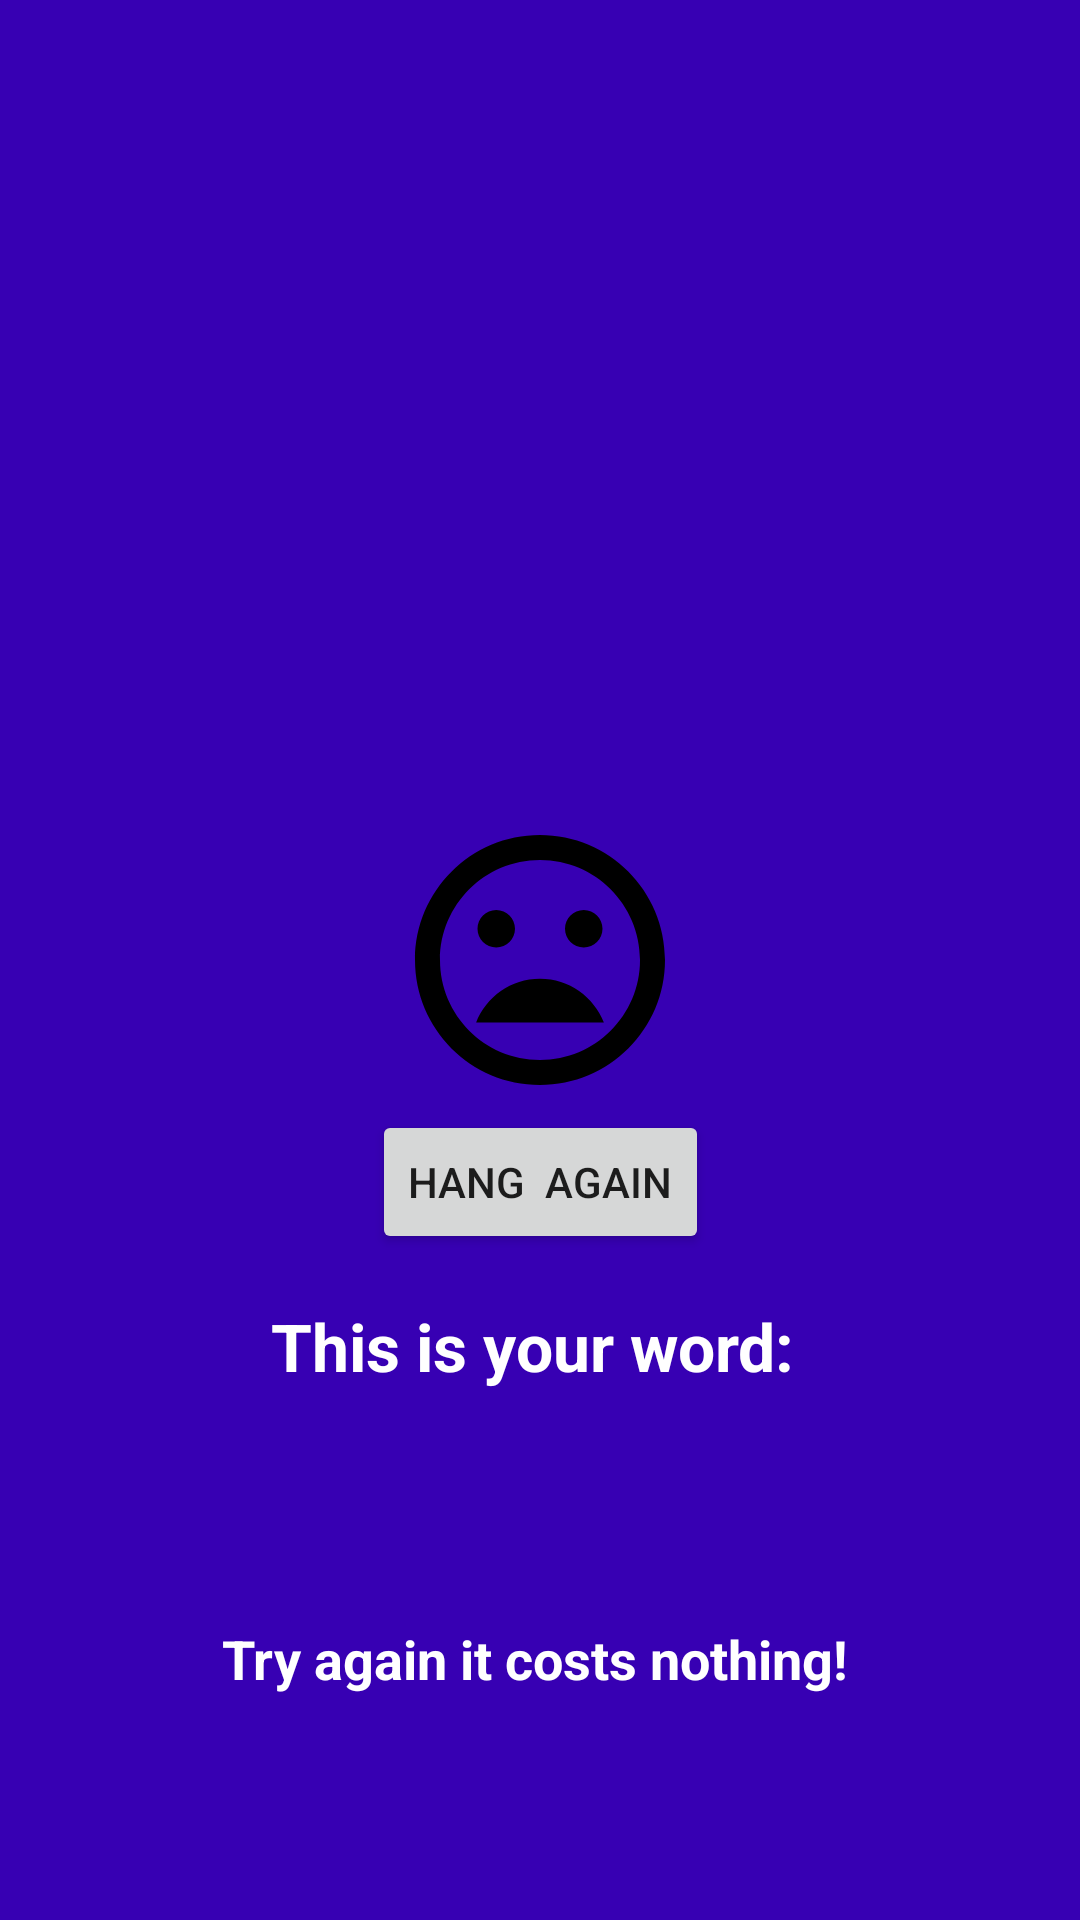

Icons on this 1080 x 1920 Android screen, each with its box as (x1, y1, x2, y2):
mood bad: (415, 835, 665, 1085)
